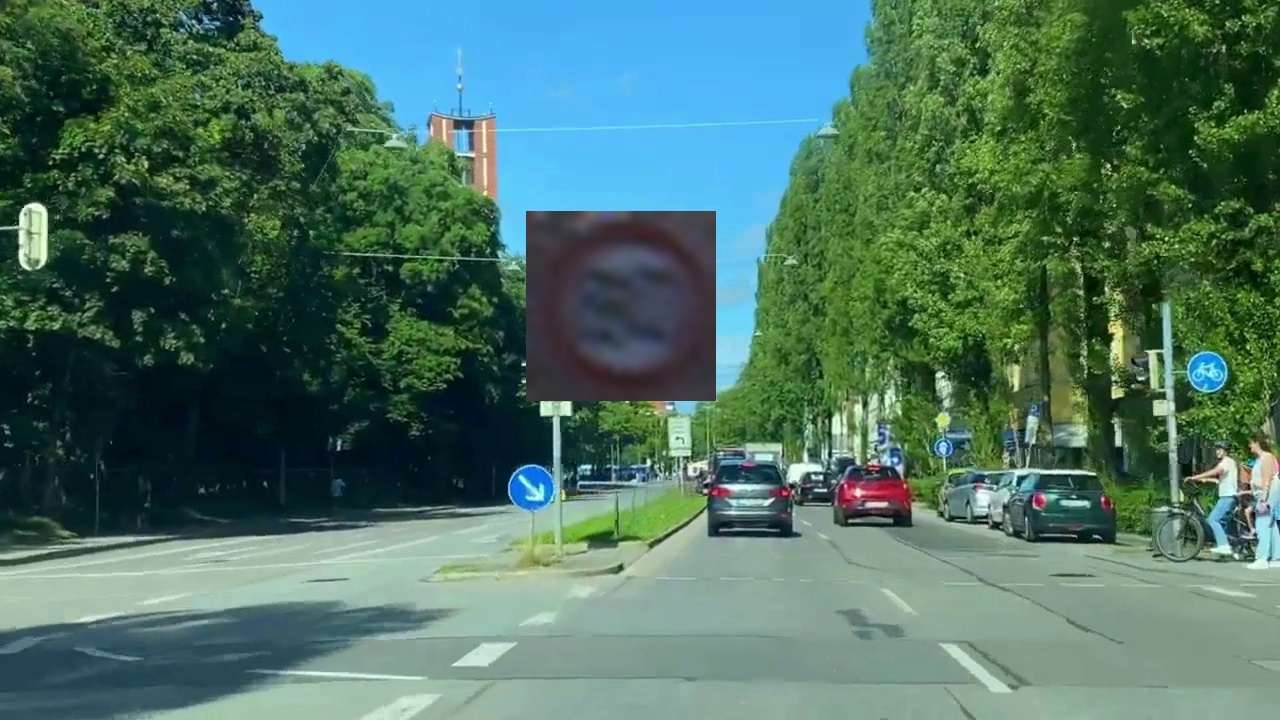Speed 80: (526, 211, 716, 401)
